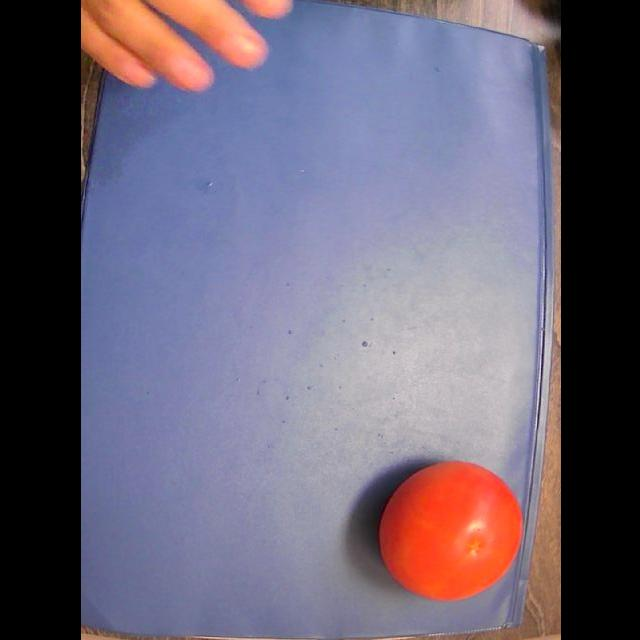tomate: (379, 462, 522, 601)
